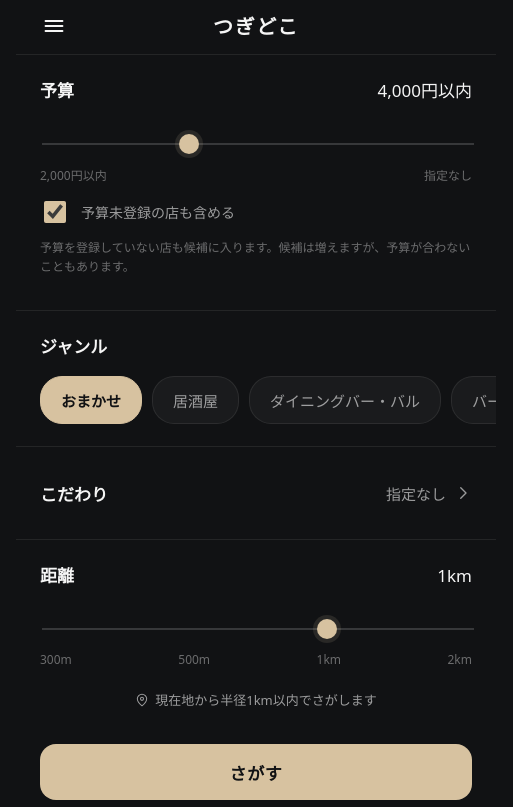
Test: 検索 › 通信中は「さがす」を連打できない
Step 1. Click the button "さがす" → click(256, 772), box [40,744,472,800]
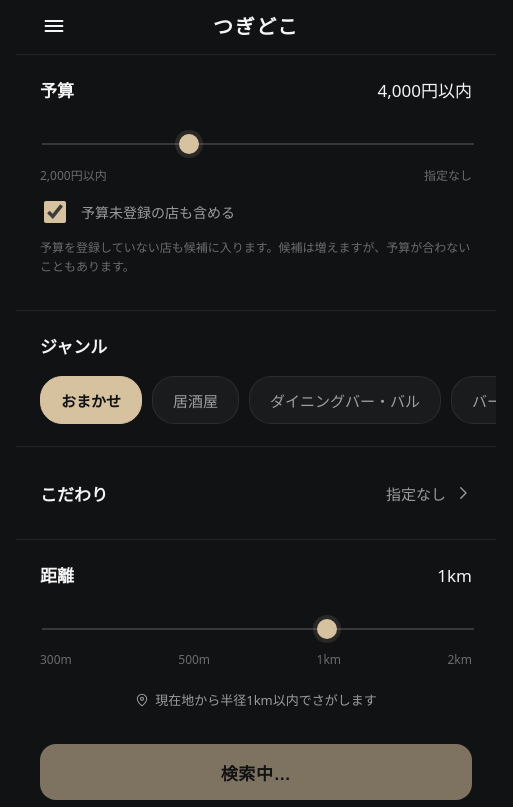
Expected: the button "検索中…" is disabled, [40,744,472,800]
